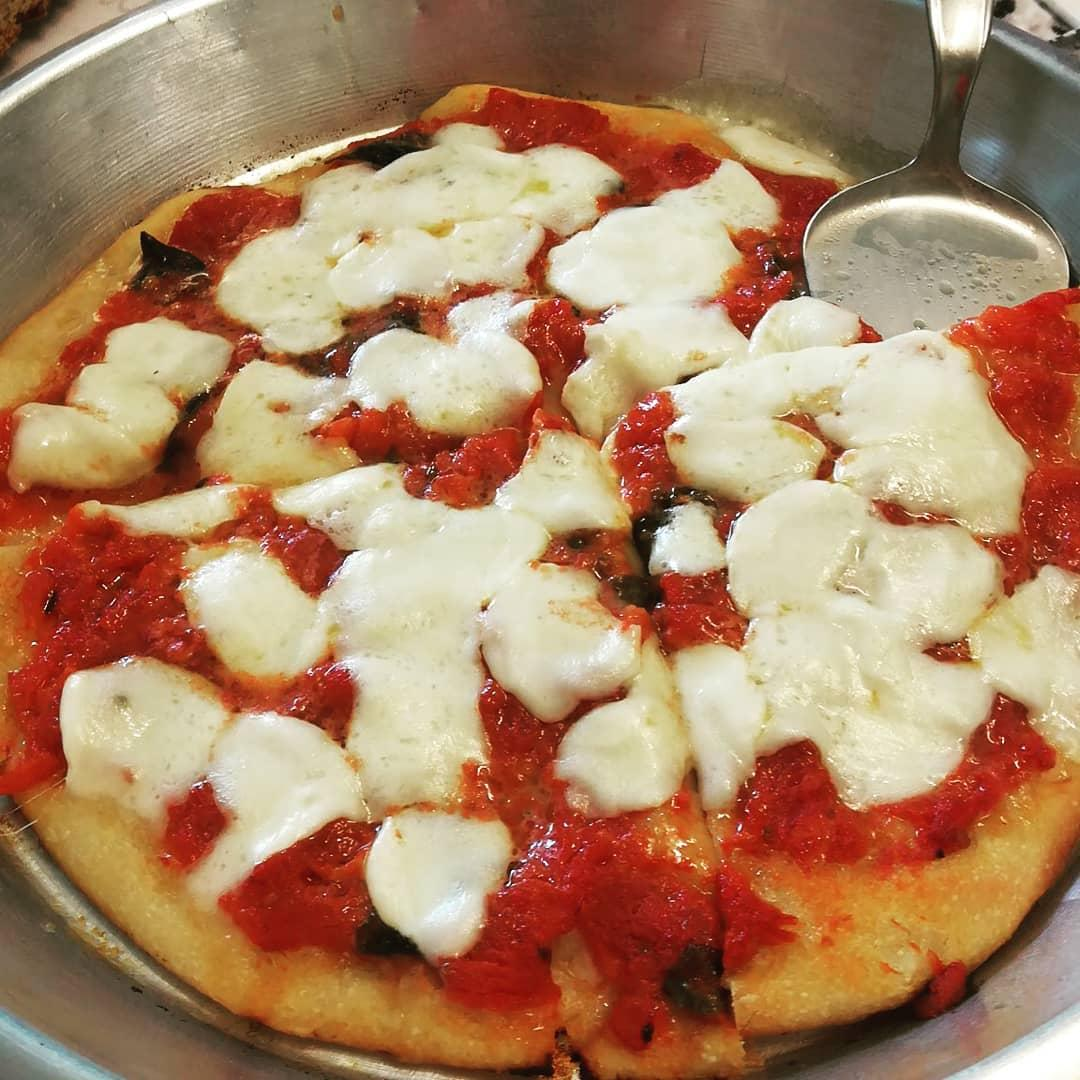Cheese: (763, 513, 964, 742), (707, 347, 990, 494), (257, 159, 522, 293), (347, 509, 467, 785), (591, 188, 726, 387), (32, 330, 179, 468), (499, 573, 607, 690), (88, 679, 207, 779), (374, 307, 512, 393), (233, 376, 331, 464)
Pizza: (0, 92, 1080, 1080)
